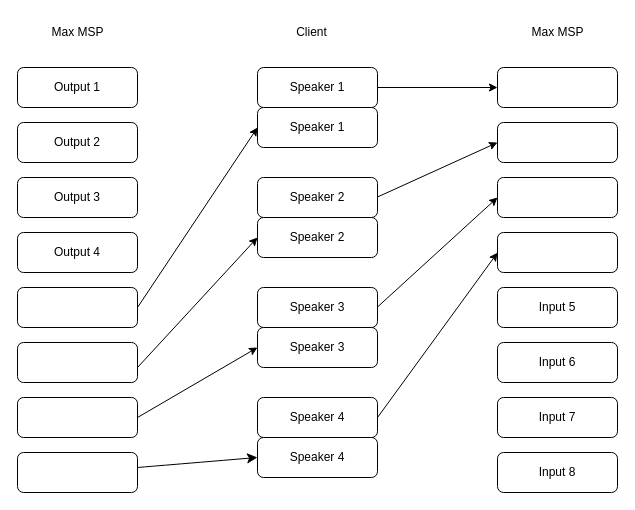
The diagram is 635 pixels wide and 510 high, and some of its shapes have lost their labels. The shapes that lost their labels are listed below. From the top down, each one's centre as x and y in pixels, then its label:
At (557,87): "Input 1".
At (557,142): "Input 2".
At (557,197): "Input 3".
At (557,252): "Input 4".
At (77,307): "Output 5".
At (77,362): "Output 6".
At (77,417): "Output 7".
At (77,472): "Output 8".
